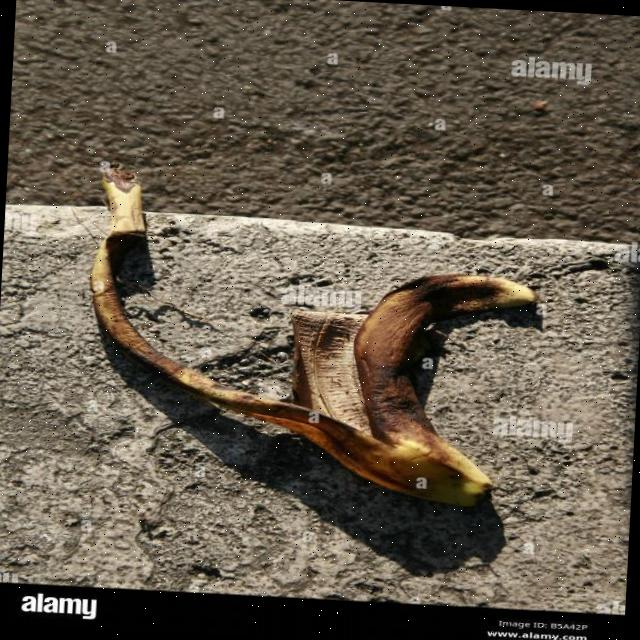banana-peel: (77, 161, 544, 512)
